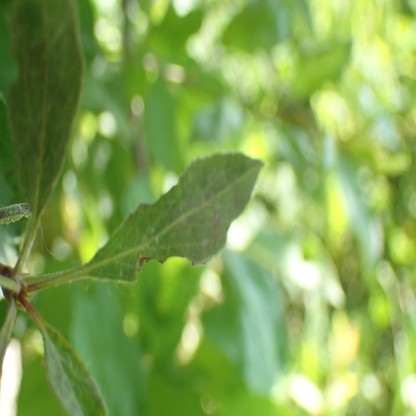powder: (142, 173, 222, 257)
